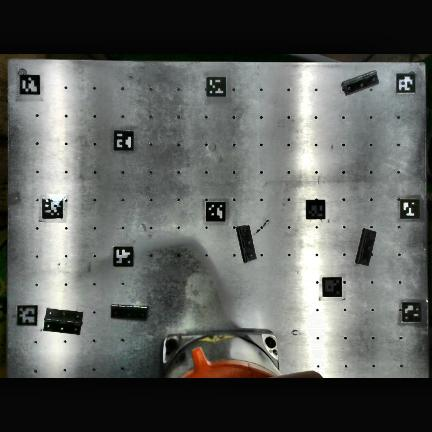hinge: (44, 308, 83, 334), (342, 71, 379, 95), (356, 229, 376, 265), (237, 226, 256, 262), (111, 305, 147, 319)
marker: (17, 304, 38, 325), (400, 198, 420, 219), (42, 198, 62, 218), (113, 246, 133, 266), (114, 130, 134, 150), (206, 75, 226, 95), (403, 300, 422, 321), (206, 201, 225, 222), (20, 75, 40, 94), (396, 73, 415, 93), (306, 200, 325, 219), (323, 278, 342, 296)
